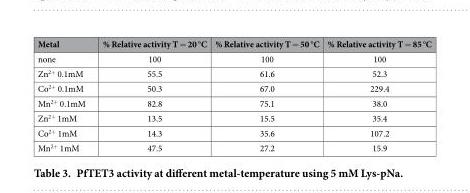table: (36, 37, 430, 153)
table column: (93, 37, 210, 153), (210, 37, 322, 153), (322, 37, 430, 153), (36, 37, 93, 153)
table column header: (36, 37, 430, 50)
table row: (36, 50, 430, 65), (36, 65, 430, 80), (36, 80, 430, 95), (36, 95, 430, 110), (36, 110, 430, 125), (36, 125, 430, 140), (36, 37, 430, 50), (36, 140, 430, 153)
